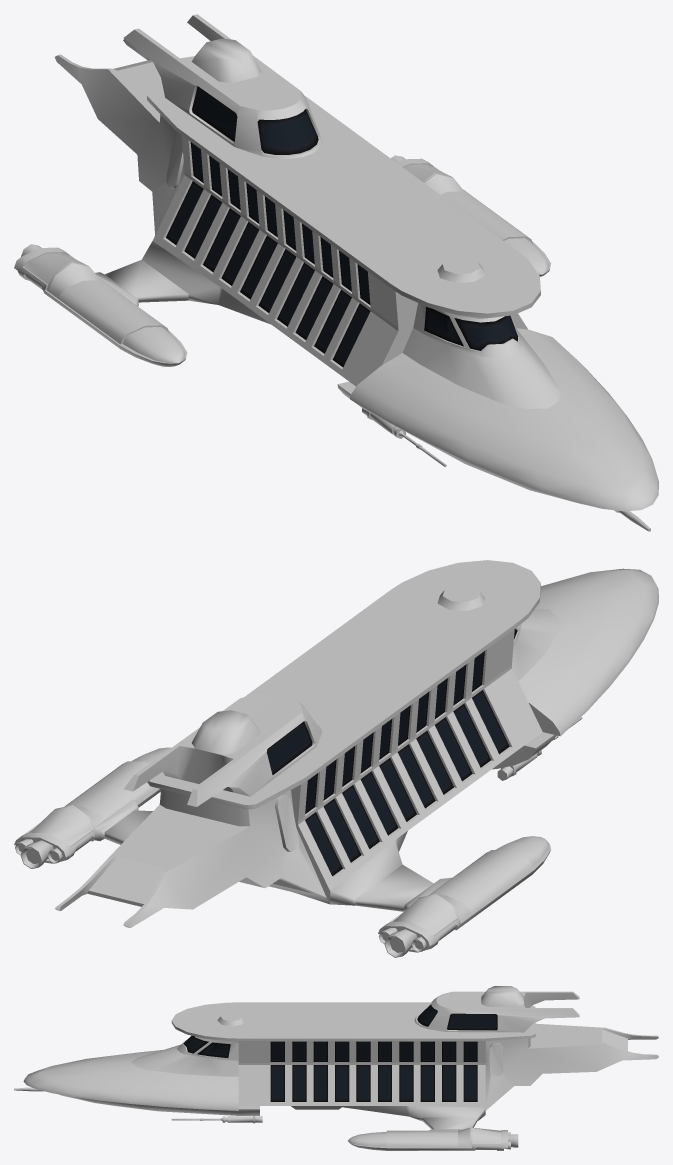
Rendered from sorosuub_space_yacht_npc_l1.fbx.
3 renders of one model, top to bottom at view 1: azimuth 30°, elevation 25°; view 2: azimuth 150°, elevation 25°; view 3: azimuth 270°, elevation 25°, orthographic. The views are drawn at different scales.
Visible parts, largest first — view 1: mesh_node; view 2: mesh_node; view 3: mesh_node.
Boxes of the visible parts, x1,y1,x2,y2 form: mesh_node: (14, 14, 658, 531); mesh_node: (14, 560, 658, 957); mesh_node: (14, 986, 658, 1150).
Bounding box in the file's own units: 38.86 × 17.56 × 90.37.
